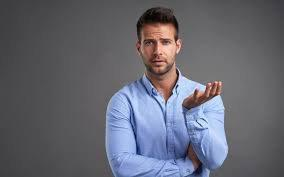Sober: (141, 21, 174, 70)
